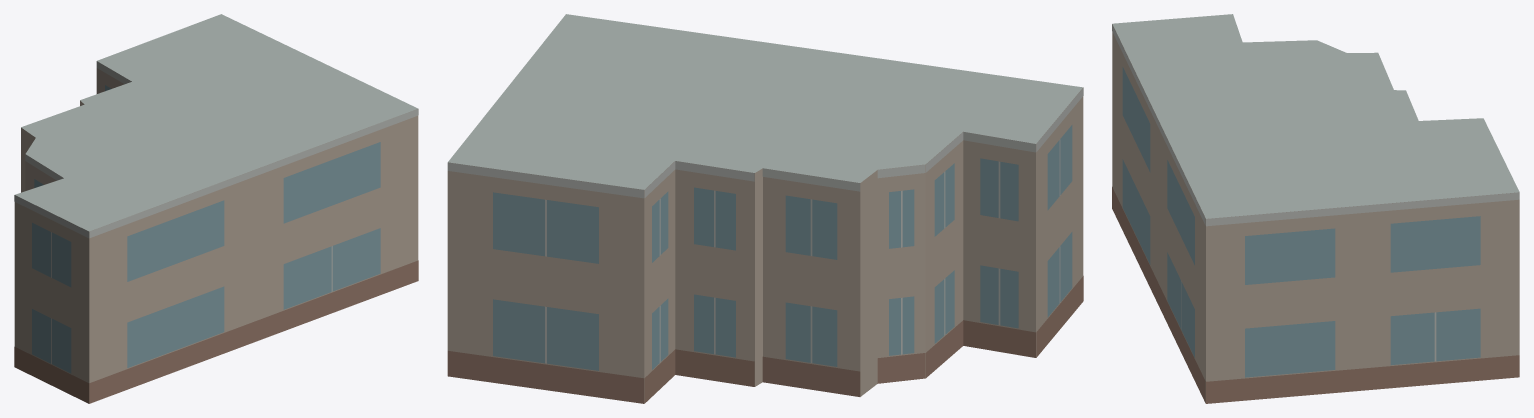
File: survey-upis-32639626.glb
3 renders of one model, left to right at view 1: azimuth 30°, elevation 25°; view 2: azimuth 150°, elevation 25°; view 3: azimuth 270°, elevation 25°, orthographic. The views are drawn at different scales.
Visible parts, largest first — view 1: survey-upis-32639626.tmp; view 2: survey-upis-32639626.tmp; view 3: survey-upis-32639626.tmp.
Part boxes in pixels (x1,y1,x2,y2): survey-upis-32639626.tmp: [14, 14, 418, 403]; survey-upis-32639626.tmp: [447, 14, 1083, 403]; survey-upis-32639626.tmp: [1112, 14, 1519, 403].
Size of the model in its own units: 14.5 by 6.1 by 12.19.
